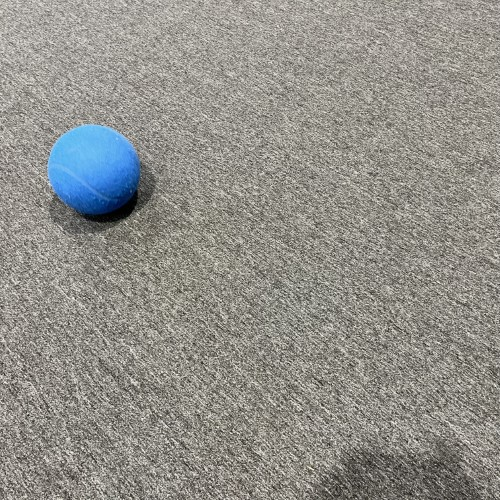blue: (45, 123, 142, 215)
